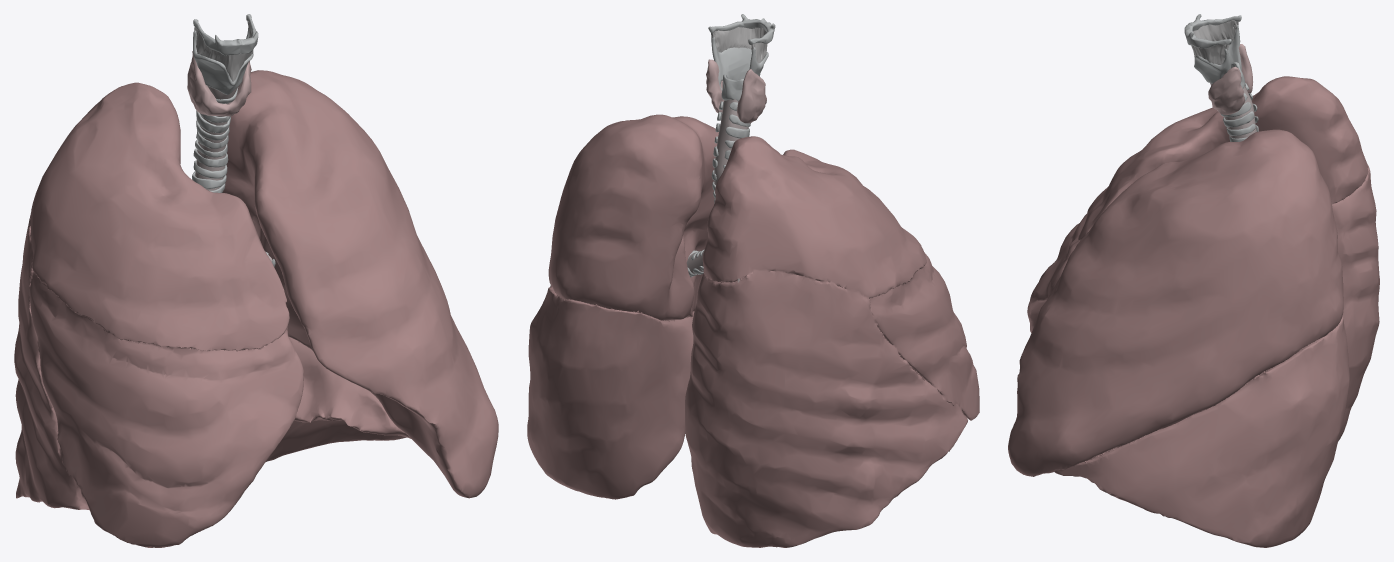
File: airwaysCompressed.glb
3 views of the same model, side by side, from view 1: azimuth 30°, elevation 25°; view 2: azimuth 150°, elevation 25°; view 3: azimuth 270°, elevation 25° (orthographic). The views are drawn at different scales.
Parts seen in each view (by area): view 1: Linkerlong, Hyoid_bone, Trachea_kraakbeen, Thyroid_gland, Tussen_hyoid_en_thyroid, bronchi1; view 2: Linkerlong, Hyoid_bone, Thyroid_gland, bronchi1, Tussen_hyoid_en_thyroid, Trachea_kraakbeen; view 3: Linkerlong, Hyoid_bone, Thyroid_gland, Tussen_hyoid_en_thyroid, Trachea_kraakbeen.
Part boxes in pixels (left/top/right/bottom): Linkerlong: left=14, top=70, right=498, bottom=547; Hyoid_bone: left=193, top=14, right=258, bottom=103; Trachea_kraakbeen: left=192, top=110, right=275, bottom=266; Thyroid_gland: left=187, top=51, right=251, bottom=116; Tussen_hyoid_en_thyroid: left=194, top=21, right=253, bottom=81; bronchi1: left=195, top=86, right=272, bottom=261; Linkerlong: left=527, top=114, right=979, bottom=547; Hyoid_bone: left=708, top=14, right=775, bottom=101; Thyroid_gland: left=706, top=59, right=766, bottom=123; bronchi1: left=686, top=99, right=748, bottom=276; Tussen_hyoid_en_thyroid: left=711, top=27, right=767, bottom=62; Trachea_kraakbeen: left=687, top=101, right=750, bottom=277; Linkerlong: left=1008, top=76, right=1379, bottom=547; Hyoid_bone: left=1184, top=14, right=1245, bottom=88; Thyroid_gland: left=1208, top=44, right=1252, bottom=114; Tussen_hyoid_en_thyroid: left=1191, top=20, right=1238, bottom=64; Trachea_kraakbeen: left=1221, top=82, right=1258, bottom=141.
Bounding box in the file's own units: 297 × 339 × 253.
